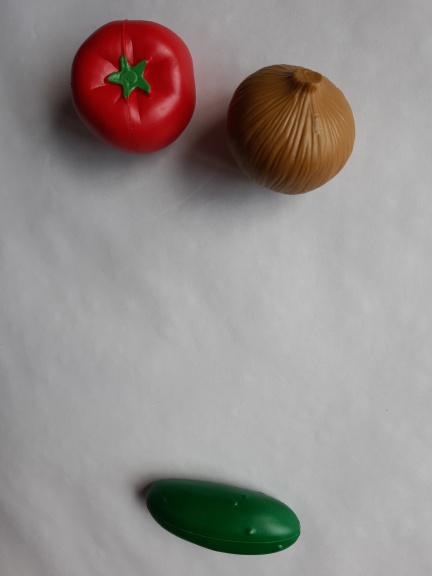cucumber: (139, 474, 308, 562)
onion: (219, 60, 370, 203)
tomato: (59, 11, 203, 167)
